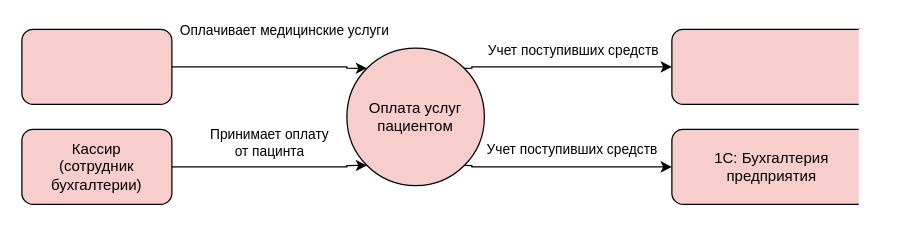
Some shapes in this 906 by 239 pixel diagram are drawn without their labels. The centre of each missing label's shape, as x and y in pixels:
"Пациент" goes at [96,66].
"ПЗУ ККМ" goes at [771,66].
